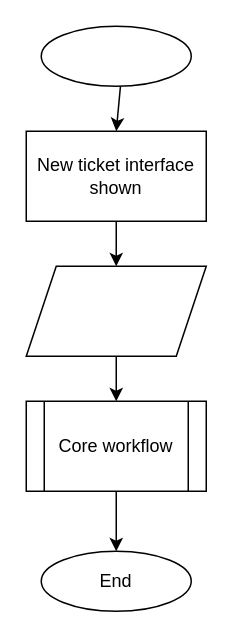
Some shapes in this 233 by 638 pixel diagram are drawn without their labels. The centre of each missing label's shape, as x and y in pixels:
"Start" goes at pixel 115 55.
"User enters ticket details and submits them" goes at pixel 115 310.
